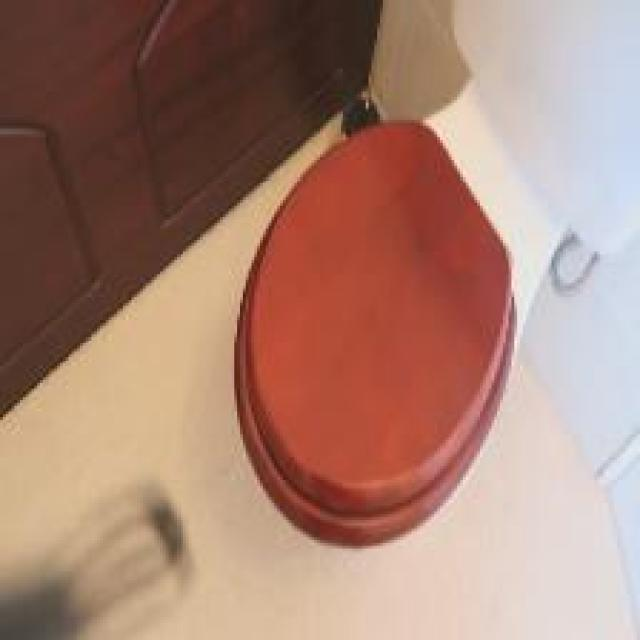other: (230, 146, 508, 529)
